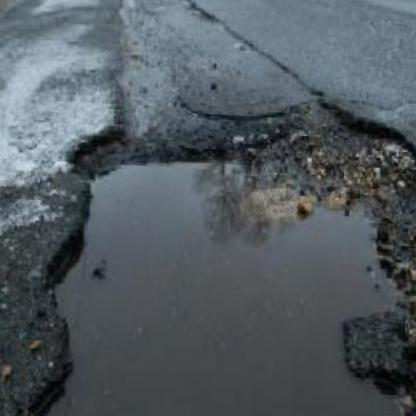pothole: (18, 78, 416, 416)
